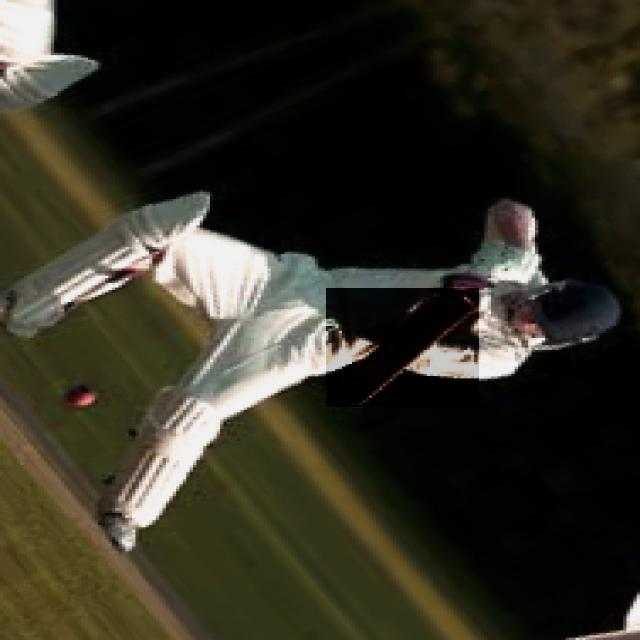bat: (325, 288, 477, 401)
toe: (325, 389, 372, 405)
